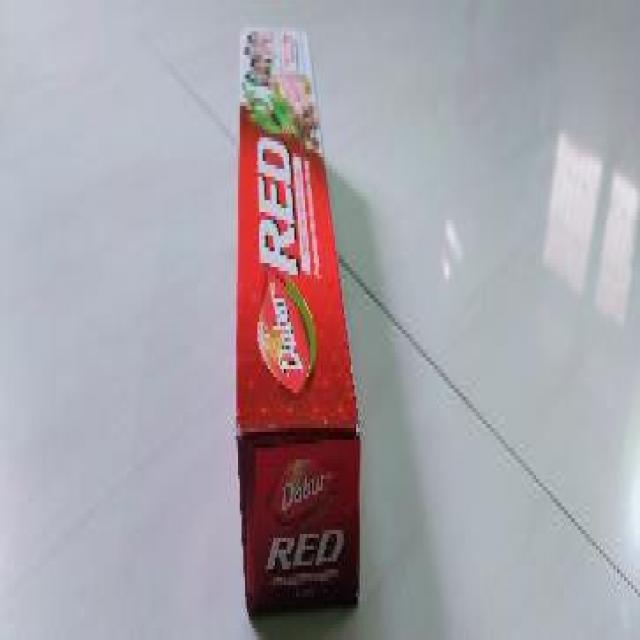tooth paste: (232, 12, 368, 599)
